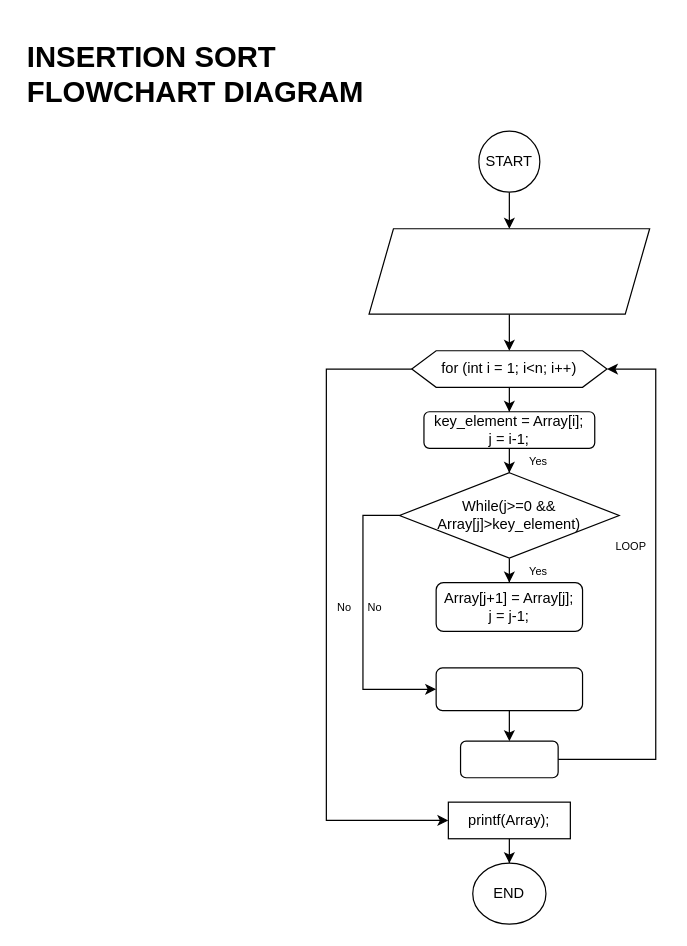
Some shapes in this 687 by 946 pixel diagram are drawn without their labels. The centre of each missing label's shape, as x and y in pixels:
"Array[j+1] = key_element;" goes at (x=509, y=689).
"i = i+1;" goes at (x=508, y=759).
"INPUT Length of the array --> n Elements --> Array[] j" goes at (x=509, y=271).
